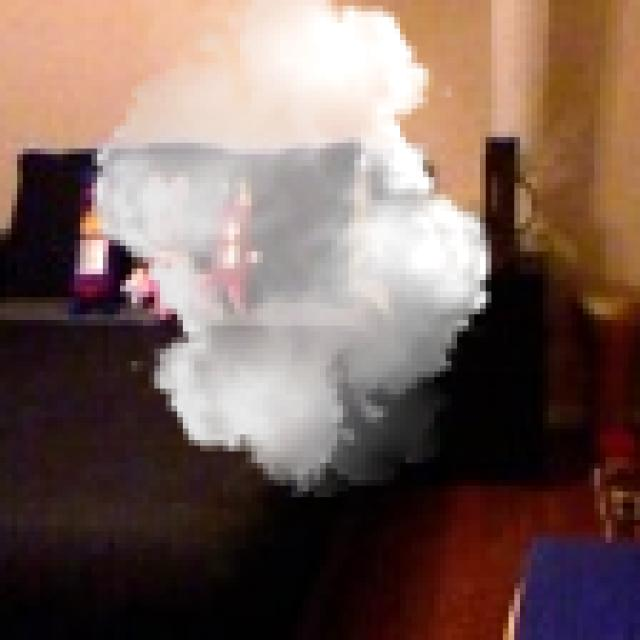smoke: (74, 0, 509, 497)
